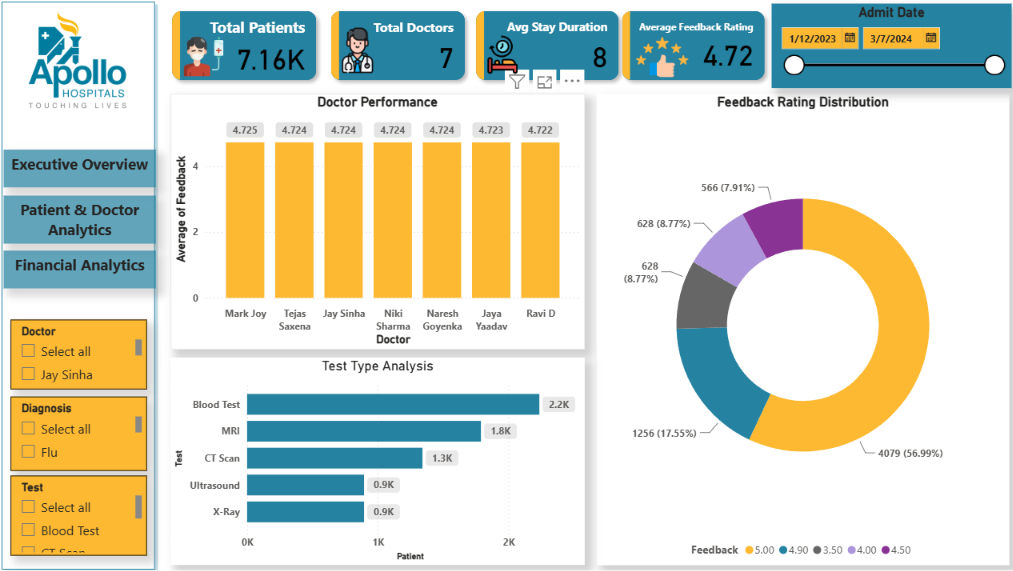

What the dashboard file says about the page in this screenshot:
{"tool":"powerbi","page":{"name":"Patient & Doctor Analytics","canvas":[1280,720],"ordinal":1},"visuals":[{"type":"shape","box":[0,0,201.7,720],"z":0},{"type":"image","box":[5,5,190,145],"z":1000},{"type":"cardVisual","fields":{"Data":["CountNonNull(Sheet1.Patient_ID)"]},"box":[201.4,0,214.3,120],"z":2000},{"type":"cardVisual","fields":{"Data":["Sheet1.Avg Stay Duration"]},"box":[581.4,0,212.9,120],"z":3000},{"type":"cardVisual","fields":{"Data":["Avg(Sheet1.Feedback)"]},"box":[764.3,0,212.9,120],"z":4000},{"type":"columnChart","title":"Doctor Performance","fields":{"Category":["Sheet1.Doctor"],"Y":["Avg(Sheet1.Feedback)"]},"box":[216.4,119.8,517.3,320.4],"z":5000},{"type":"donutChart","title":"Feedback Rating Distribution","fields":{"Y":["CountNonNull(Sheet1.Patient_ID)"],"Category":["Sheet1.Feedback"]},"box":[748.4,119.8,516,589.4],"z":6000},{"type":"clusteredBarChart","title":"Test Type Analysis","fields":{"Category":["Sheet1.Test"],"Y":["CountNonNull(Sheet1.Patient_ID)"]},"box":[216.4,450,517.3,259.2],"z":7000},{"type":"image","box":[225.7,20,62.9,107.1],"z":8000},{"type":"cardVisual","fields":{"Data":["Sheet1.Total Doctors"]},"box":[400,0,201.4,120],"z":9000},{"type":"image","box":[415.7,28.6,67.1,74.3],"z":10000},{"type":"image","box":[601.4,35.7,60,70],"z":11000},{"type":"image","box":[790,32.9,81.4,82.9],"z":12000},{"type":"slicer","title":"Admit Date","fields":{"Values":["Sheet1.Admit_Date"]},"box":[967.1,7.1,300,105.7],"z":13000},{"type":"textbox","box":[7.6,190,190,47.1],"z":14000},{"type":"textbox","box":[7.6,247.1,190,60],"z":15000},{"type":"textbox","box":[7.6,315.7,190,47.1],"z":16000},{"type":"slicer","fields":{"Values":["Sheet1.Doctor"]},"box":[15.7,402.9,170,87.1],"z":17000},{"type":"slicer","fields":{"Values":["Sheet1.Diagnosis"]},"box":[15.7,498.6,170,92.9],"z":18000},{"type":"slicer","fields":{"Values":["Sheet1.Test"]},"box":[15.7,597.1,170,100],"z":19000},{"type":"actionButton","box":[9,190,190,47.1],"z":20000},{"type":"actionButton","box":[7.6,247.1,190,60],"z":21000},{"type":"actionButton","box":[7.6,315.7,190,47.1],"z":22000}]}

Visuals, with their boxes in screenshot pixels (x1, y1, x2, y2), scaled from the page's 1280x720 canvas onto the 1013x571 screenshot:
shape: bbox=[0, 0, 160, 570]
image: bbox=[4, 4, 154, 119]
cardVisual - CountNonNull(Sheet1.Patient_ID): bbox=[159, 0, 329, 95]
cardVisual - Sheet1.Avg Stay Duration: bbox=[460, 0, 629, 95]
cardVisual - Avg(Sheet1.Feedback): bbox=[605, 0, 773, 95]
"Doctor Performance" columnChart: bbox=[171, 95, 581, 349]
"Feedback Rating Distribution" donutChart: bbox=[592, 95, 1001, 562]
"Test Type Analysis" clusteredBarChart: bbox=[171, 357, 581, 562]
image: bbox=[179, 16, 228, 101]
cardVisual - Sheet1.Total Doctors: bbox=[317, 0, 476, 95]
image: bbox=[329, 23, 382, 82]
image: bbox=[476, 28, 523, 84]
image: bbox=[625, 26, 690, 92]
"Admit Date" slicer: bbox=[765, 6, 1003, 89]
textbox: bbox=[6, 151, 156, 188]
textbox: bbox=[6, 196, 156, 244]
textbox: bbox=[6, 250, 156, 288]
slicer - Sheet1.Doctor: bbox=[12, 320, 147, 389]
slicer - Sheet1.Diagnosis: bbox=[12, 395, 147, 469]
slicer - Sheet1.Test: bbox=[12, 474, 147, 553]
actionButton: bbox=[7, 151, 157, 188]
actionButton: bbox=[6, 196, 156, 244]
actionButton: bbox=[6, 250, 156, 288]
